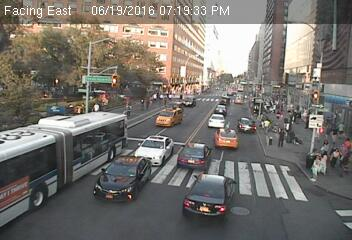neg: (285, 181, 308, 212), (29, 83, 51, 112), (27, 171, 48, 199), (200, 186, 221, 213), (62, 152, 82, 179), (251, 54, 269, 78), (219, 45, 236, 67), (94, 65, 111, 87), (120, 181, 137, 203), (76, 204, 92, 226), (87, 128, 103, 149), (250, 178, 266, 199), (212, 90, 228, 110), (146, 43, 161, 63), (189, 149, 204, 168), (189, 46, 203, 65), (38, 135, 52, 154), (119, 116, 133, 134), (147, 138, 160, 156), (57, 61, 70, 78), (107, 142, 119, 159), (304, 58, 315, 73), (228, 129, 238, 144), (272, 95, 282, 107)
pos: (307, 154, 325, 177), (327, 145, 343, 166), (276, 125, 292, 146), (317, 149, 332, 170)
